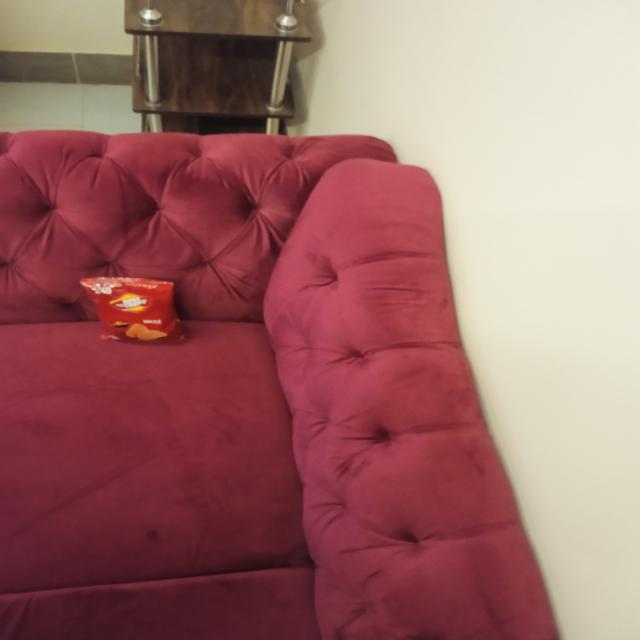Plastic: (78, 272, 195, 348)
